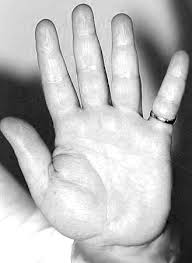palm: (1, 3, 190, 251)
